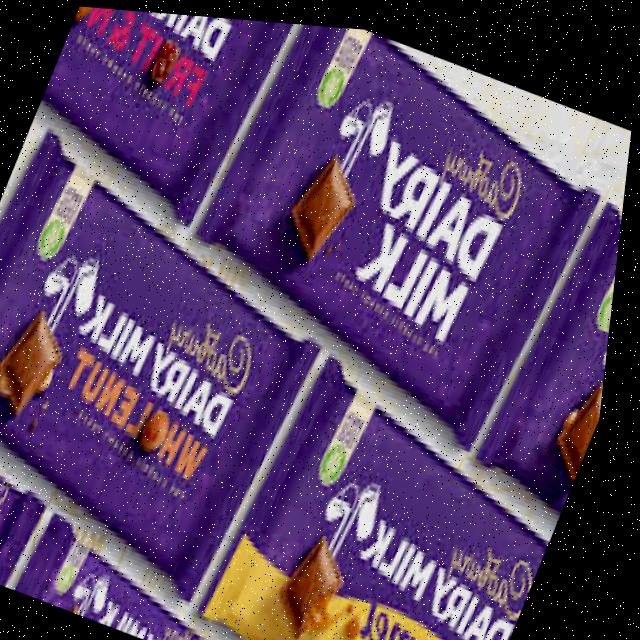cadbury: (162, 13, 628, 462), (0, 116, 371, 615), (195, 335, 601, 640), (0, 234, 288, 533), (15, 2, 290, 232), (0, 405, 75, 586)
